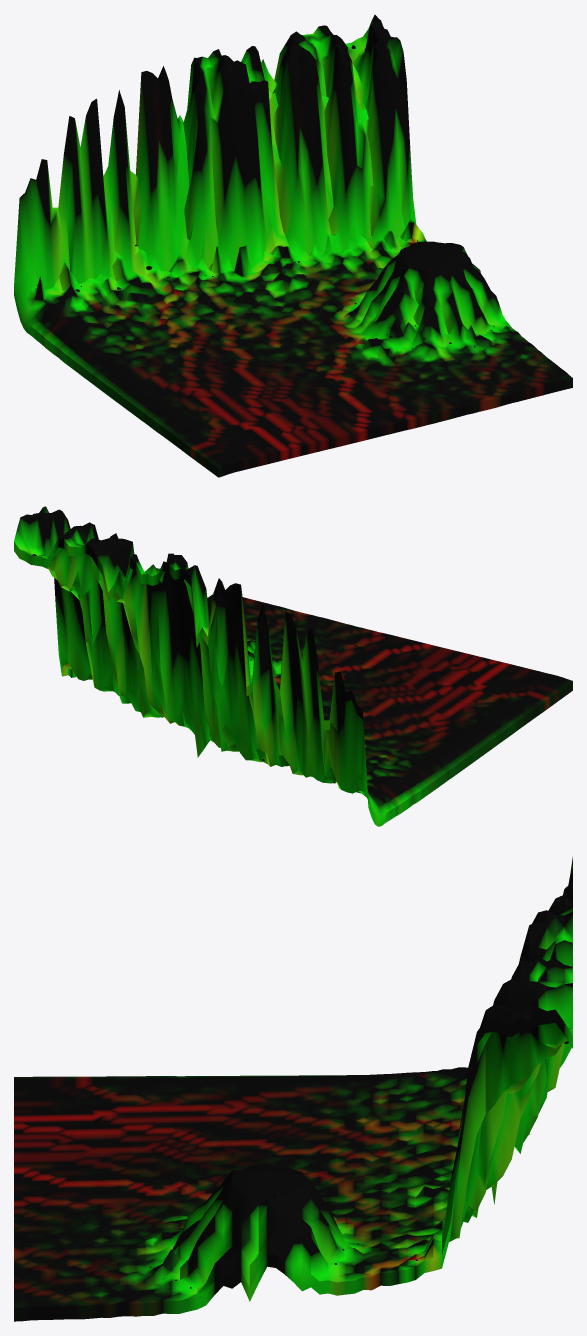
File: Terrain_01_03.fbx
3 renders of one model, top to bottom at view 1: azimuth 30°, elevation 25°; view 2: azimuth 150°, elevation 25°; view 3: azimuth 270°, elevation 25°, orthographic. The views are drawn at different scales.
Visible parts, largest first — view 1: Terrain_01_03_LOD0; view 2: Terrain_01_03_LOD0; view 3: Terrain_01_03_LOD0.
Part boxes in pixels (bbox=[...]): Terrain_01_03_LOD0: bbox=[14, 14, 572, 477]; Terrain_01_03_LOD0: bbox=[14, 506, 572, 826]; Terrain_01_03_LOD0: bbox=[14, 857, 572, 1321].
Size of what is drawn, in the model's own units: 384 by 240 by 384.
